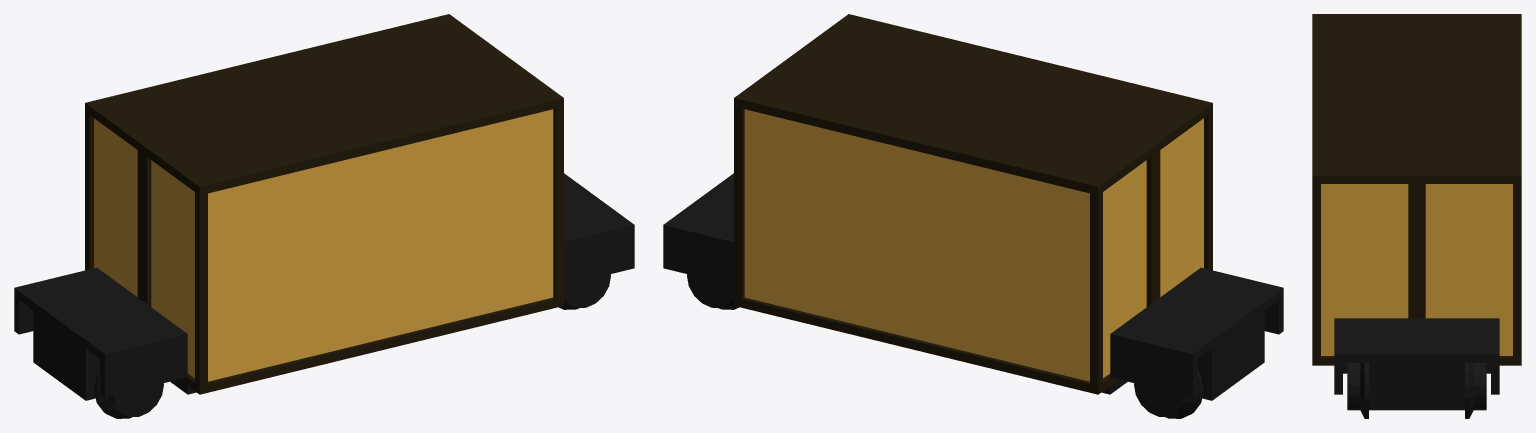
Rendered from Cargo.fbx.
3 views of the same model, side by side, from view 1: azimuth 30°, elevation 25°; view 2: azimuth 150°, elevation 25°; view 3: azimuth 270°, elevation 25° (orthographic). The views are drawn at different scales.
Parts seen in each view (by area): view 1: Cube.005; view 2: Cube.005; view 3: Cube.005.
Part boxes in pixels (bbox=[...]): Cube.005: bbox=[14, 14, 634, 418]; Cube.005: bbox=[663, 14, 1283, 418]; Cube.005: bbox=[1312, 14, 1521, 418].
Bounding box in the file's own units: 6.4 × 2.8 × 2.4.
